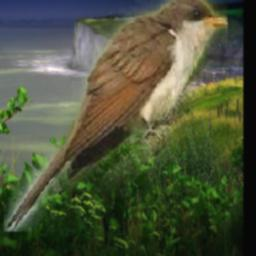Cuckoo: (5, 0, 229, 233)
